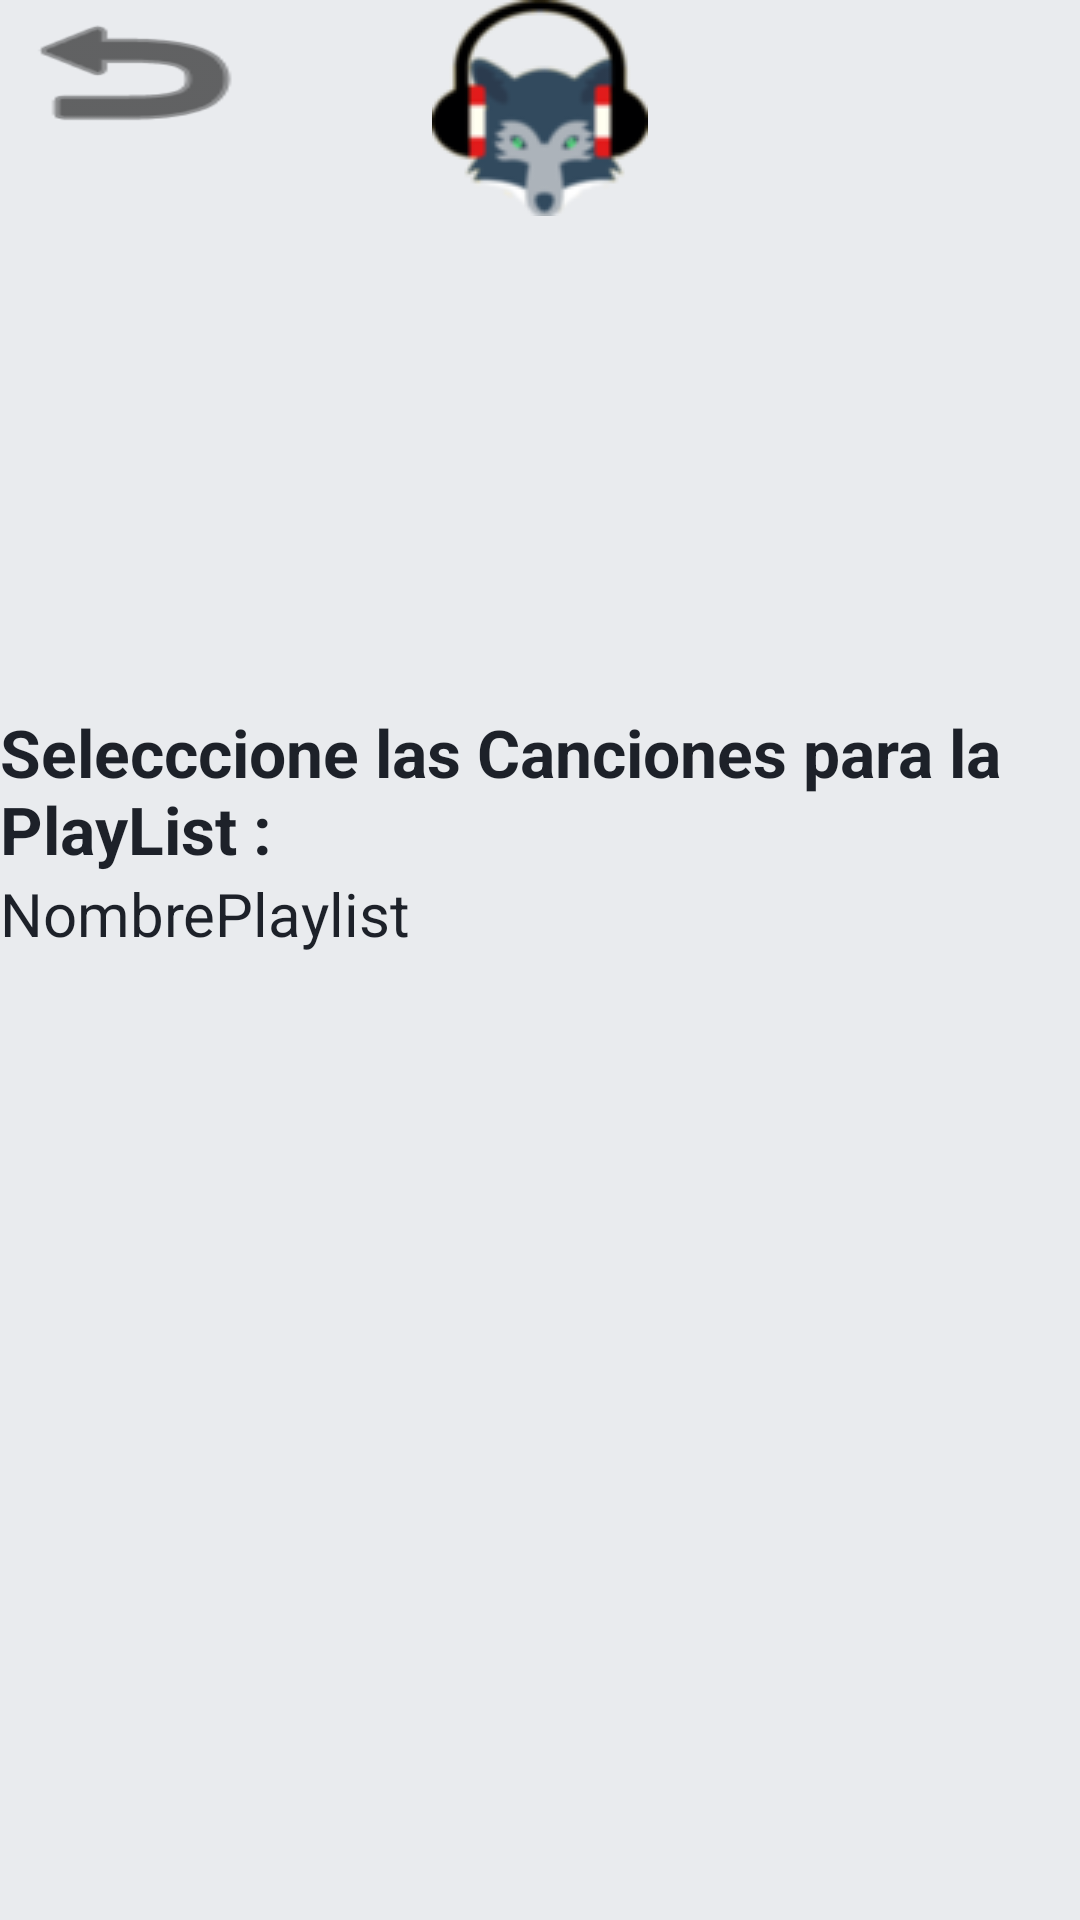

Where icons sit on this 1080*1920 app screen, as [x1,y1,x2,y2]:
revert: [40,26,231,120]
